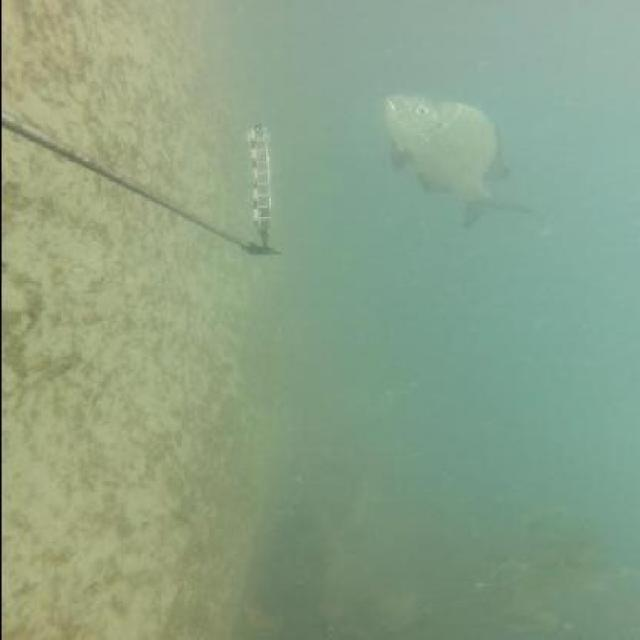acanthopagrus_palmaris: (375, 92, 540, 232)
